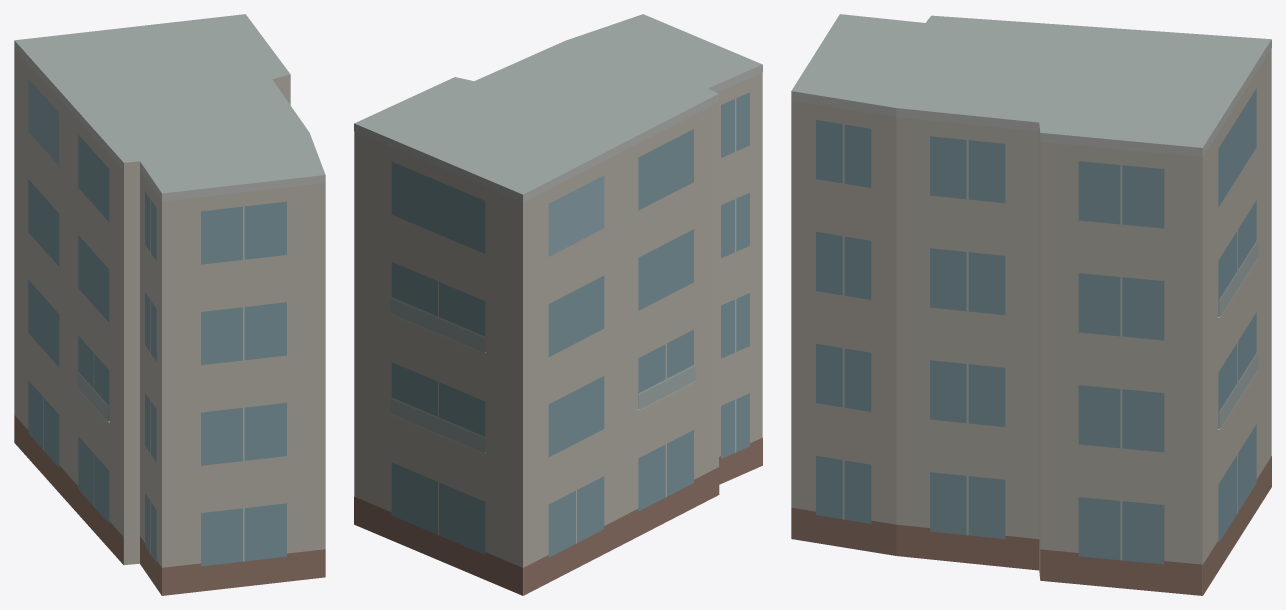
File: survey-upis-32749980.glb
3 renders of one model, left to right at view 1: azimuth 30°, elevation 25°; view 2: azimuth 150°, elevation 25°; view 3: azimuth 270°, elevation 25°, orthographic. The views are drawn at different scales.
Parts seen in each view (by area): view 1: survey-upis-32749980.tmp; view 2: survey-upis-32749980.tmp; view 3: survey-upis-32749980.tmp.
Boxes of the visible parts, bbox=[...] form: survey-upis-32749980.tmp: bbox=[14, 14, 325, 595]; survey-upis-32749980.tmp: bbox=[354, 14, 762, 595]; survey-upis-32749980.tmp: bbox=[791, 14, 1271, 595].
Size of the model in its own units: 7.77 by 12.1 by 11.77.
